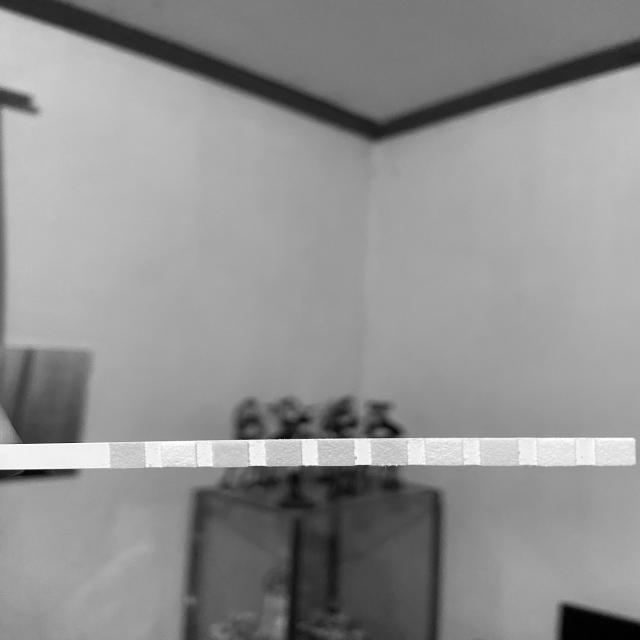Bilirubin: (162, 442, 196, 467)
Blood: (319, 440, 354, 466)
Glucose: (110, 443, 144, 468)
Ketone: (214, 441, 247, 466)
Leukocytes: (597, 439, 634, 465)
Nitrite: (538, 439, 576, 465)
Protein: (426, 438, 462, 466)
SpGravity: (266, 440, 301, 466)
Urobilinogen: (479, 438, 518, 466)
background: (0, 0, 640, 640)
pH: (372, 439, 407, 466)
strip: (0, 438, 635, 471)
